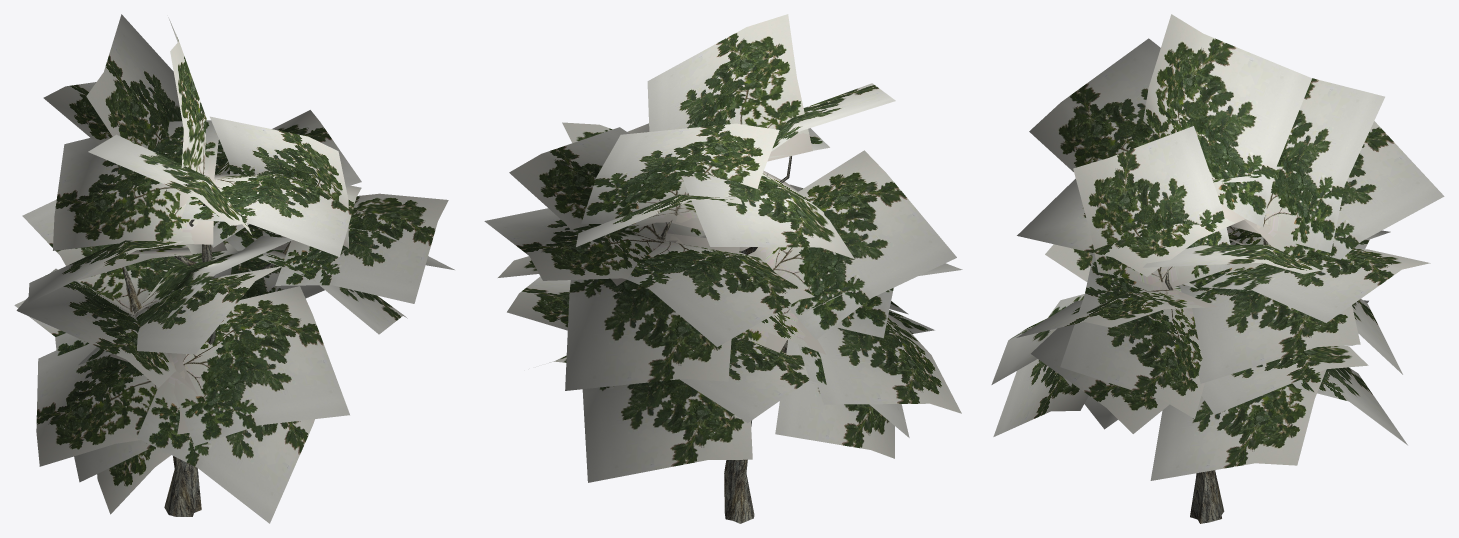
File: Derevo.fbx
3 renders of one model, left to right at view 1: azimuth 30°, elevation 25°; view 2: azimuth 150°, elevation 25°; view 3: azimuth 270°, elevation 25°, orthographic. The views are drawn at different scales.
Parts seen in each view (by area): view 1: Detal323; view 2: Detal323; view 3: Detal323.
Part boxes in pixels (x1,y1,x2,y2): Detal323: (14, 14, 454, 523); Detal323: (484, 14, 962, 523); Detal323: (991, 14, 1444, 523).
Bounding box in the file's own units: 6655 × 7436 × 6268.
